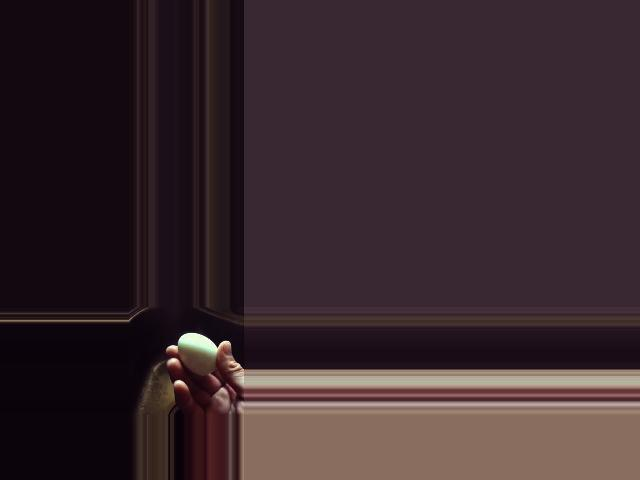egg: (178, 333, 218, 375)
